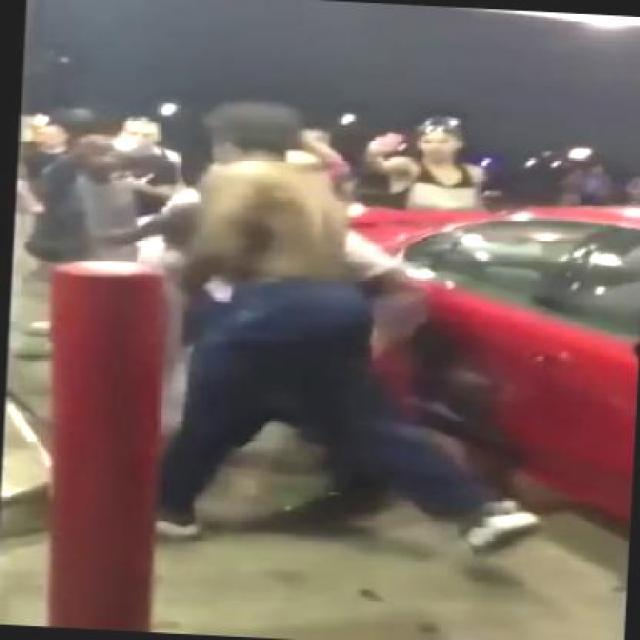fight: (100, 97, 414, 525)
non-fight: (366, 105, 496, 213)
